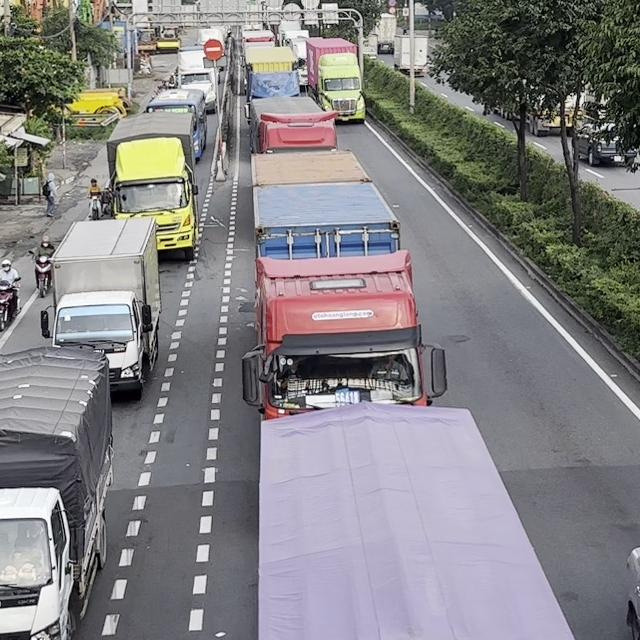bus: (143, 88, 207, 162)
motorcycle: (28, 248, 54, 298), (0, 277, 21, 331), (88, 192, 103, 220)
truck: (256, 401, 577, 639), (241, 151, 447, 420), (0, 343, 114, 639), (39, 216, 162, 396), (102, 112, 200, 261), (247, 95, 339, 154), (304, 36, 366, 123), (243, 46, 301, 122), (173, 50, 218, 113)
